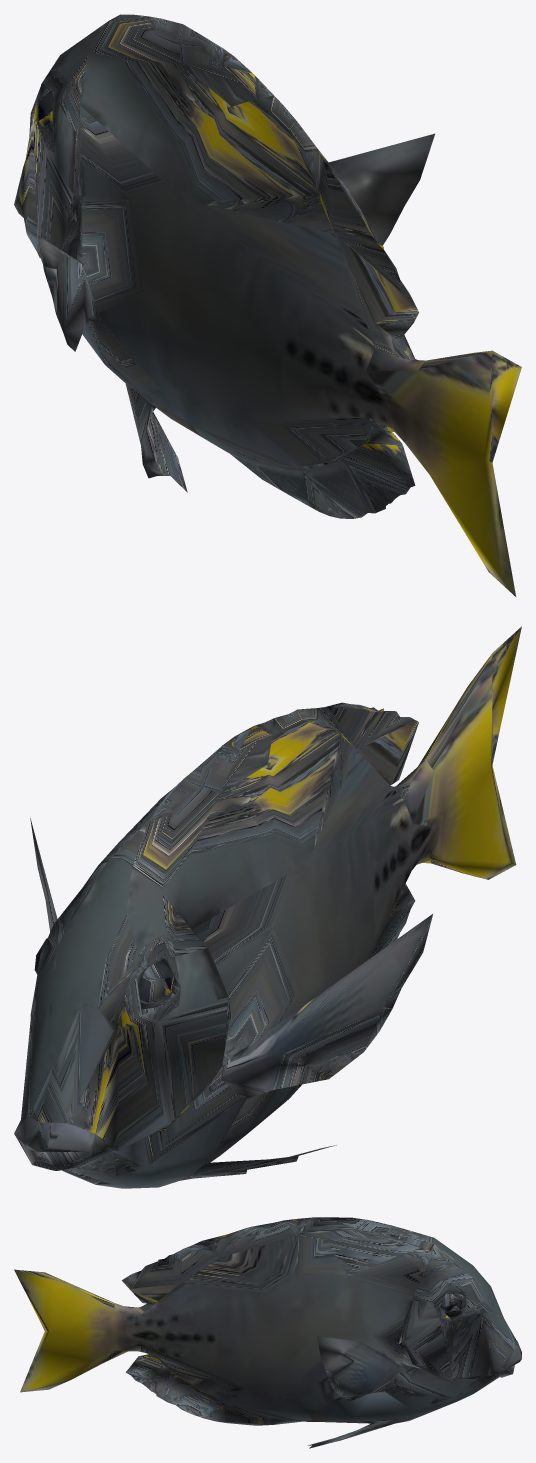
Rendered from geelstaart_dokter-ver.glb.
3 renders of one model, top to bottom at view 1: azimuth 30°, elevation 25°; view 2: azimuth 150°, elevation 25°; view 3: azimuth 270°, elevation 25°, orthographic. The views are drawn at different scales.
Parts seen in each view (by area): view 1: tripo_node_40891c05-e90d-4076-b253-9388c3e35836; view 2: tripo_node_40891c05-e90d-4076-b253-9388c3e35836; view 3: tripo_node_40891c05-e90d-4076-b253-9388c3e35836.
Part boxes in pixels (x1,y1,x2,y2): tripo_node_40891c05-e90d-4076-b253-9388c3e35836: (14,14,521,596); tripo_node_40891c05-e90d-4076-b253-9388c3e35836: (14,626,521,1188); tripo_node_40891c05-e90d-4076-b253-9388c3e35836: (14,1217,521,1448).
Size of the model in its own units: 0.3 by 0.2988 by 0.6296.
1 material, 1 textured.
